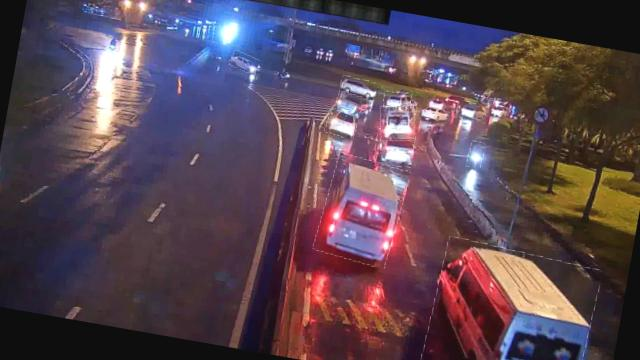Bike: (466, 140, 486, 169)
Bus: (418, 236, 602, 360), (314, 152, 409, 268), (376, 101, 418, 144)
Car: (373, 127, 417, 168), (325, 109, 359, 139), (340, 76, 378, 101), (228, 50, 260, 74), (335, 91, 365, 115), (382, 89, 412, 111), (456, 100, 480, 121)
